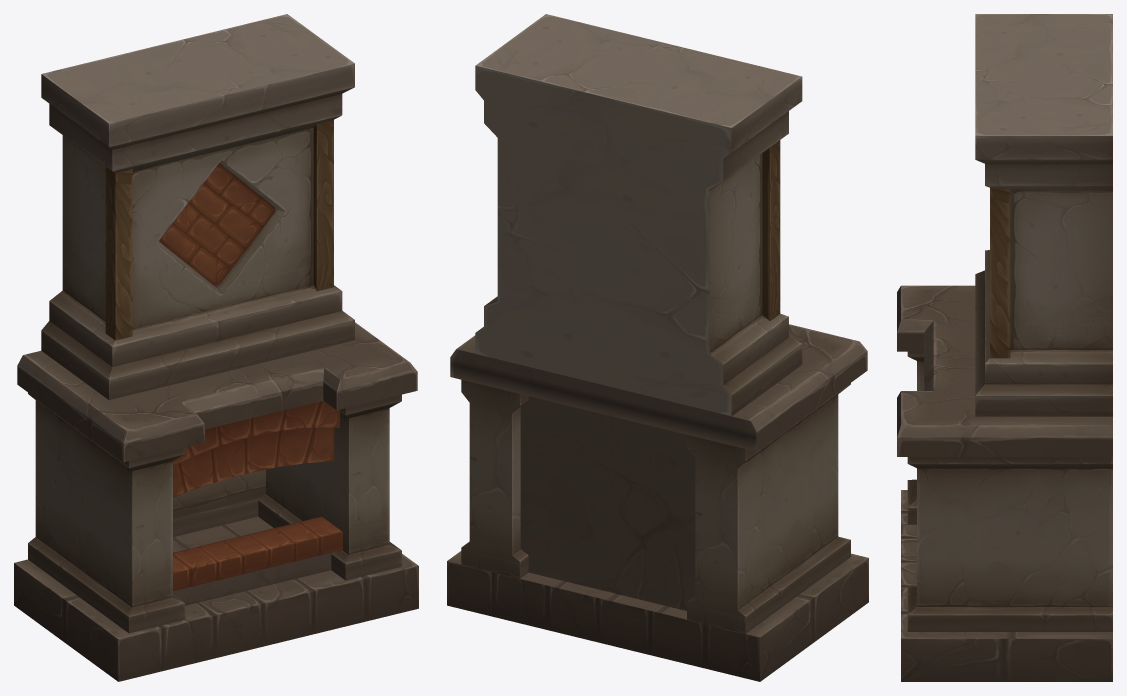
The model's file is Fireplace.FBX.
The picture shows the model from 3 angles, left to right: view 1: azimuth 30°, elevation 25°; view 2: azimuth 150°, elevation 25°; view 3: azimuth 270°, elevation 25°; orthographic projection. The views are drawn at different scales.
Parts seen in each view (by area): view 1: Fireplace; view 2: Fireplace; view 3: Fireplace.
Boxes of the visible parts, x1,y1,x2,y2 form: Fireplace: (14, 14, 418, 681); Fireplace: (447, 14, 868, 681); Fireplace: (897, 14, 1112, 681).
Bounding box in the file's own units: 1314 × 2193 × 806.
